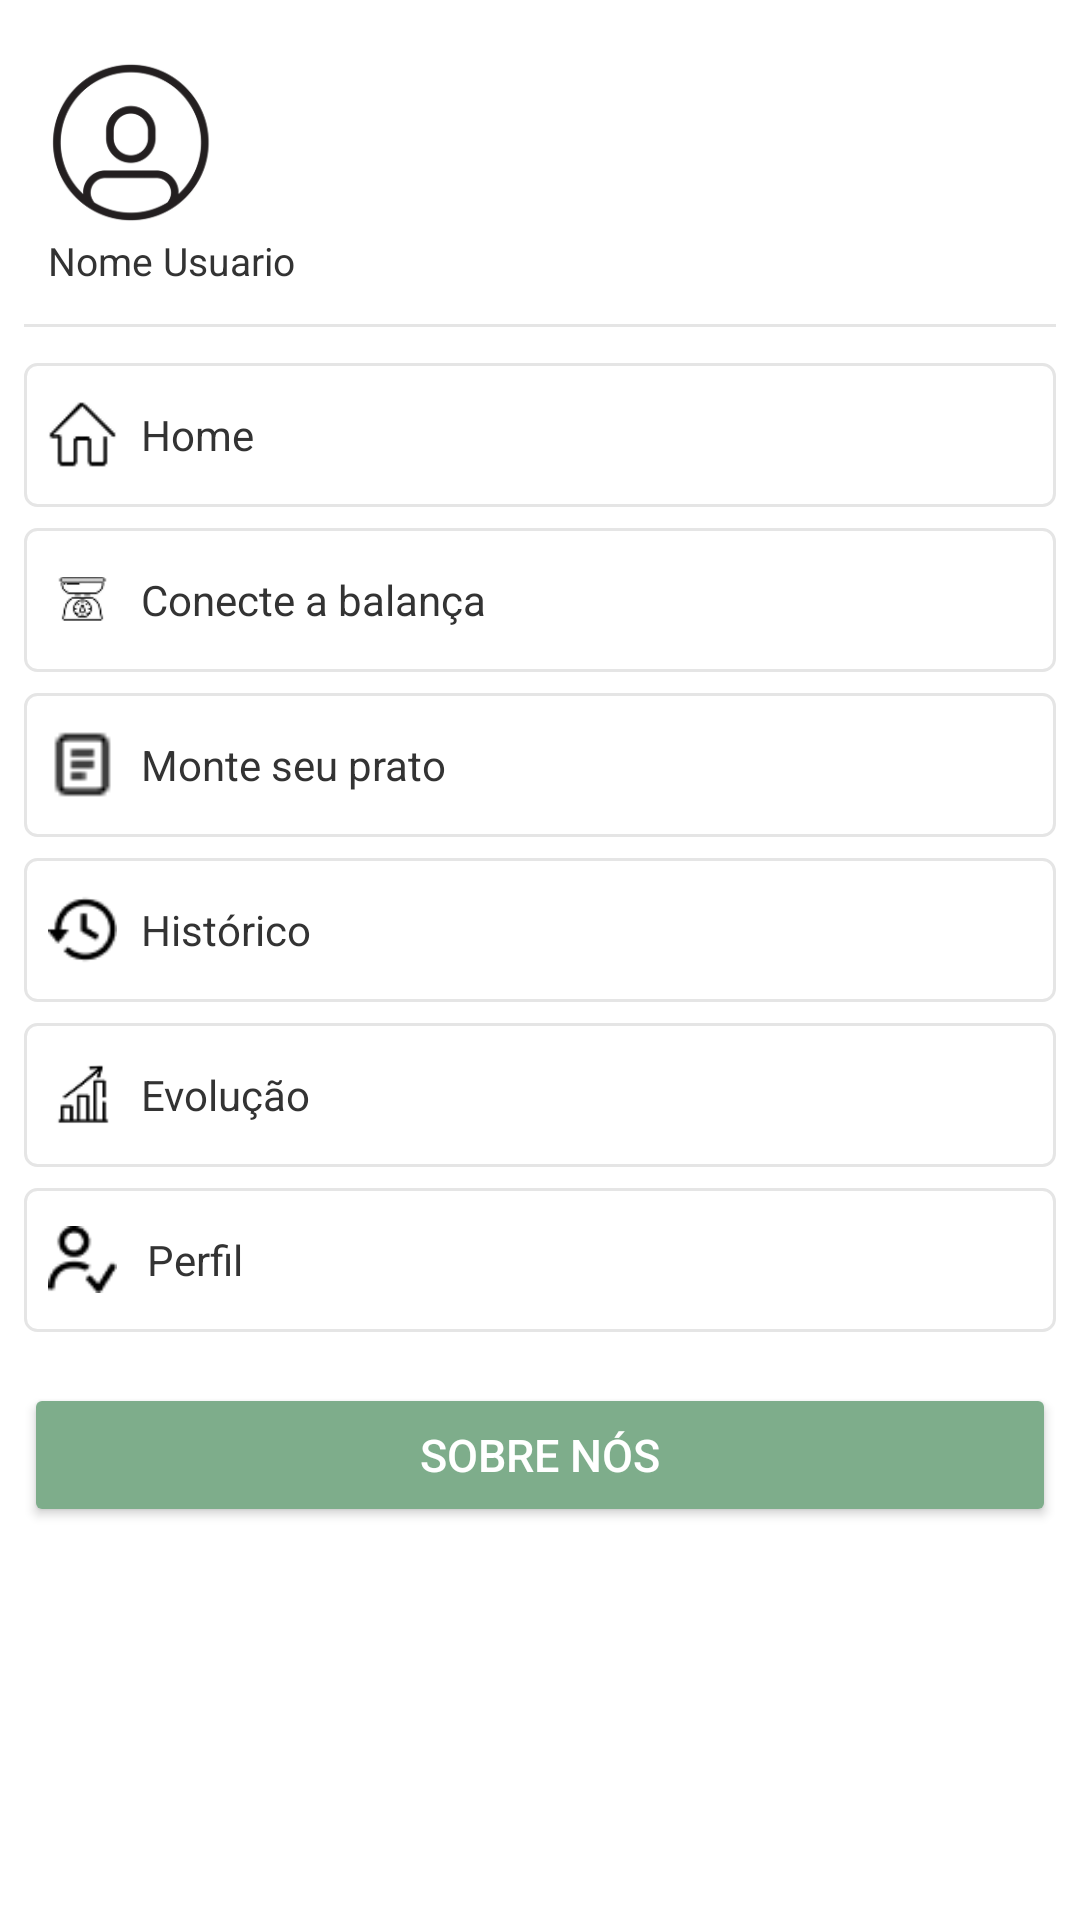

Screen size 1080×1920. Icon name, then its center in pixels as point (x, y):
Foto do usuário: point (131, 142)
